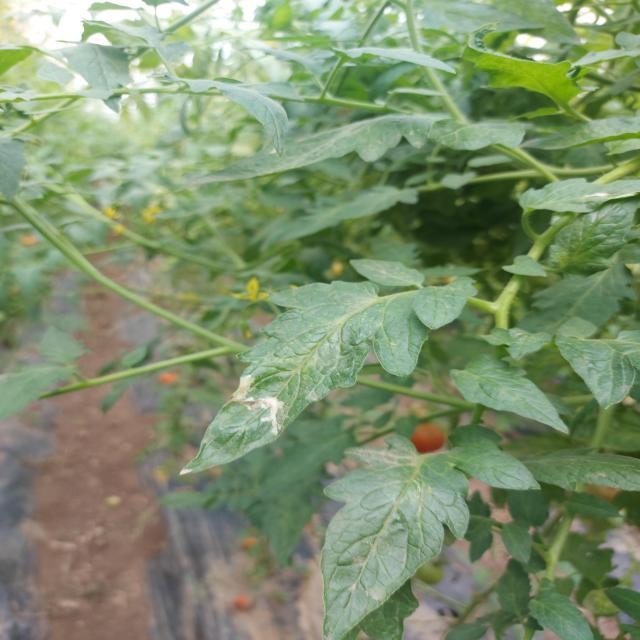Tuta absoluta: (224, 371, 298, 437)
